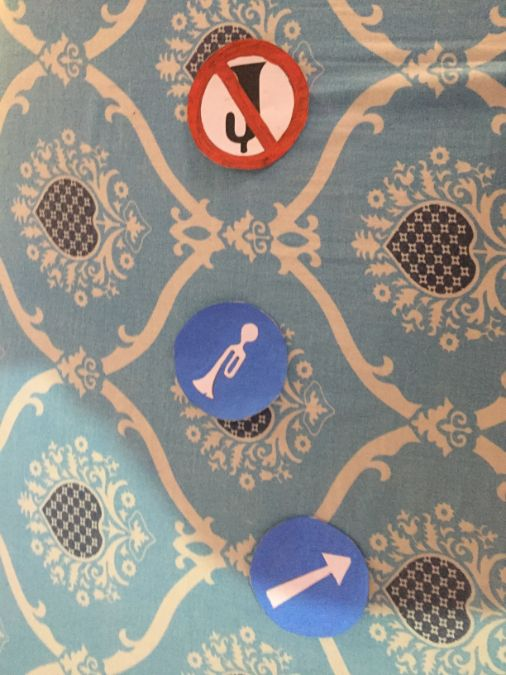blow-horn: (174, 298, 300, 424)
keep-left: (248, 514, 371, 637)
speed-50: (186, 43, 315, 172)
